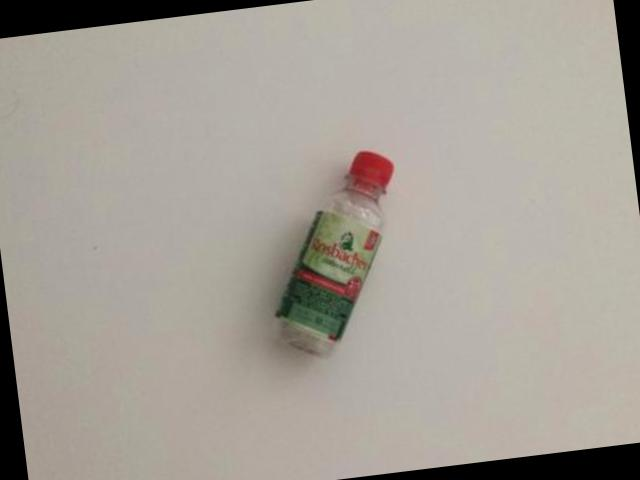plastic: (277, 152, 394, 358)
